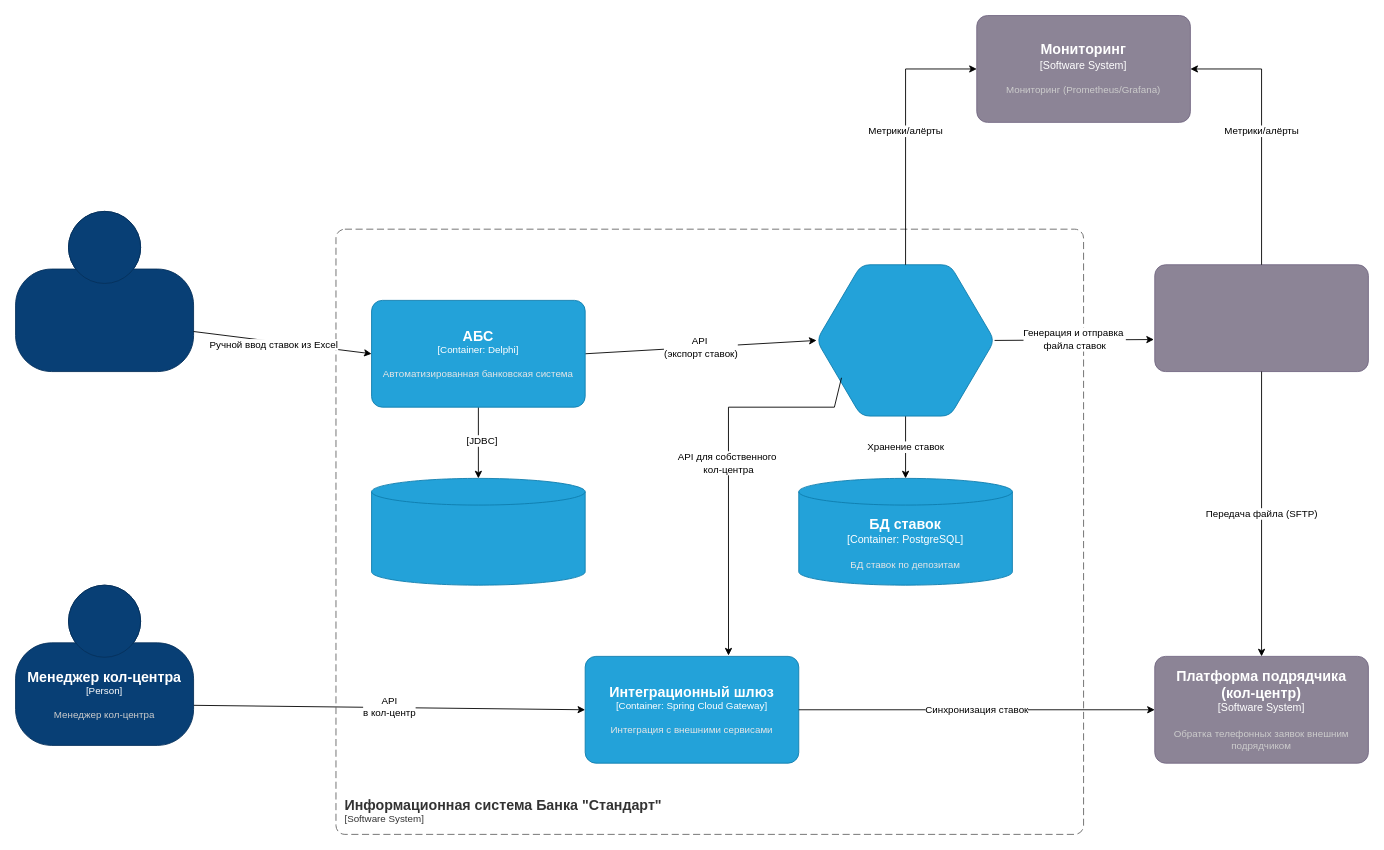
This 1384x850 diagram has some shape labels left out. The shapes that lost their labels are listed below. From the top down, each one's centre as x and y in pixels, then its label:
(x=104, y=291): Менеджер бэк-офиса [Person] Менеджер бэк-офиса
(x=1261, y=318): SFTP [Software System] S3 хранилище
(x=905, y=340): Сервис ставок [Container: Spring Boot, Java] Сервис ставок по депозитам
(x=478, y=531): СУБД АБС [Container: Oracle Database] СУБД АБС
